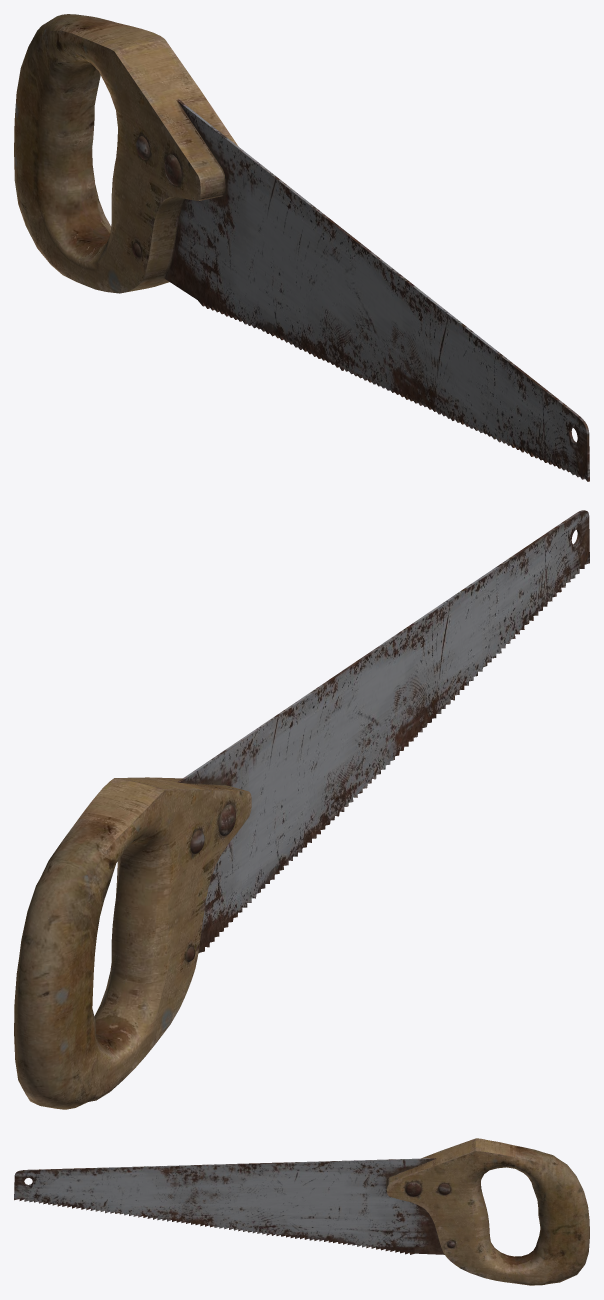
Rendered from handsaw_wood.gltf.
3 views of the same model, one above another, from view 1: azimuth 30°, elevation 25°; view 2: azimuth 150°, elevation 25°; view 3: azimuth 270°, elevation 25° (orthographic). The views are drawn at different scales.
Visible parts, largest first — view 1: handsaw_wood__x; view 2: handsaw_wood__x; view 3: handsaw_wood__x.
Boxes of the visible parts, x1,y1,x2,y2 form: handsaw_wood__x: (14,14,589,481); handsaw_wood__x: (14,510,589,1109); handsaw_wood__x: (14,1138,589,1285).
Size of the model in its own units: 0.0408 by 0.1665 by 0.633.
1 material, 1 textured.
